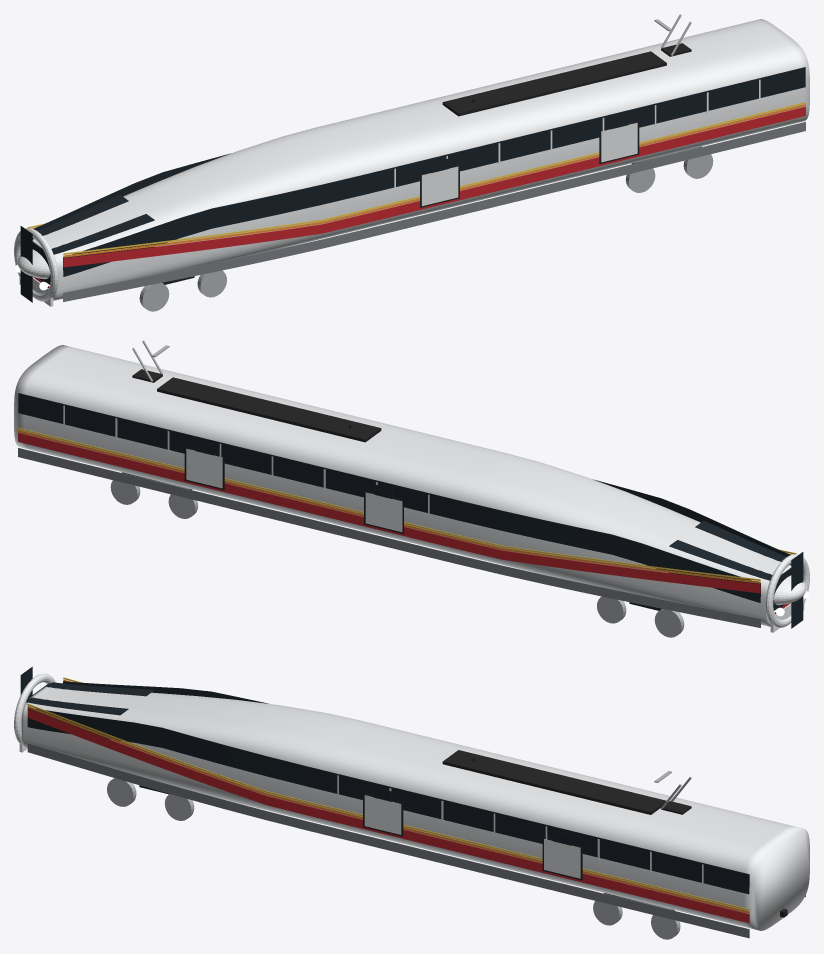
File: cr400af-bs-head-lod-v004.glb
3 views of the same model, one above another, from view 1: azimuth 30°, elevation 25°; view 2: azimuth 150°, elevation 25°; view 3: azimuth 330°, elevation 25° (orthographic).
Visible parts, largest first — view 1: GEO-headcar-lod, GEO-door_-1_-0.6, GEO-door_-1_5.6, GEO-nose_ring, GEO-nose_windscreen, GEO-nose_cap; view 2: GEO-headcar-lod, GEO-door_1_-0.6, GEO-door_1_5.6, GEO-nose_ring, GEO-nose_windscreen, GEO-nose_cap; view 3: GEO-headcar-lod, GEO-door_-1_-0.6, GEO-door_-1_5.6, GEO-nose_ring.
Part boxes in pixels (x1=…): GEO-headcar-lod: x1=19, y1=14, x2=809, y2=311; GEO-door_-1_-0.6: x1=421, y1=166, x2=458, y2=206; GEO-door_-1_5.6: x1=601, y1=122, x2=637, y2=162; GEO-nose_ring: x1=14, y1=228, x2=58, y2=301; GEO-nose_windscreen: x1=20, y1=226, x2=32, y2=302; GEO-nose_cap: x1=17, y1=249, x2=50, y2=279; GEO-headcar-lod: x1=14, y1=340, x2=804, y2=637; GEO-door_1_-0.6: x1=365, y1=492, x2=402, y2=532; GEO-door_1_5.6: x1=186, y1=448, x2=222, y2=488; GEO-nose_ring: x1=765, y1=554, x2=809, y2=627; GEO-nose_windscreen: x1=791, y1=552, x2=803, y2=628; GEO-nose_cap: x1=773, y1=575, x2=806, y2=605; GEO-headcar-lod: x1=19, y1=677, x2=809, y2=939; GEO-door_-1_-0.6: x1=364, y1=795, x2=401, y2=834; GEO-door_-1_5.6: x1=544, y1=839, x2=580, y2=878; GEO-nose_ring: x1=14, y1=673, x2=55, y2=743.
Bounding box in the file's own units: 26.44 × 4.84 × 3.44.
